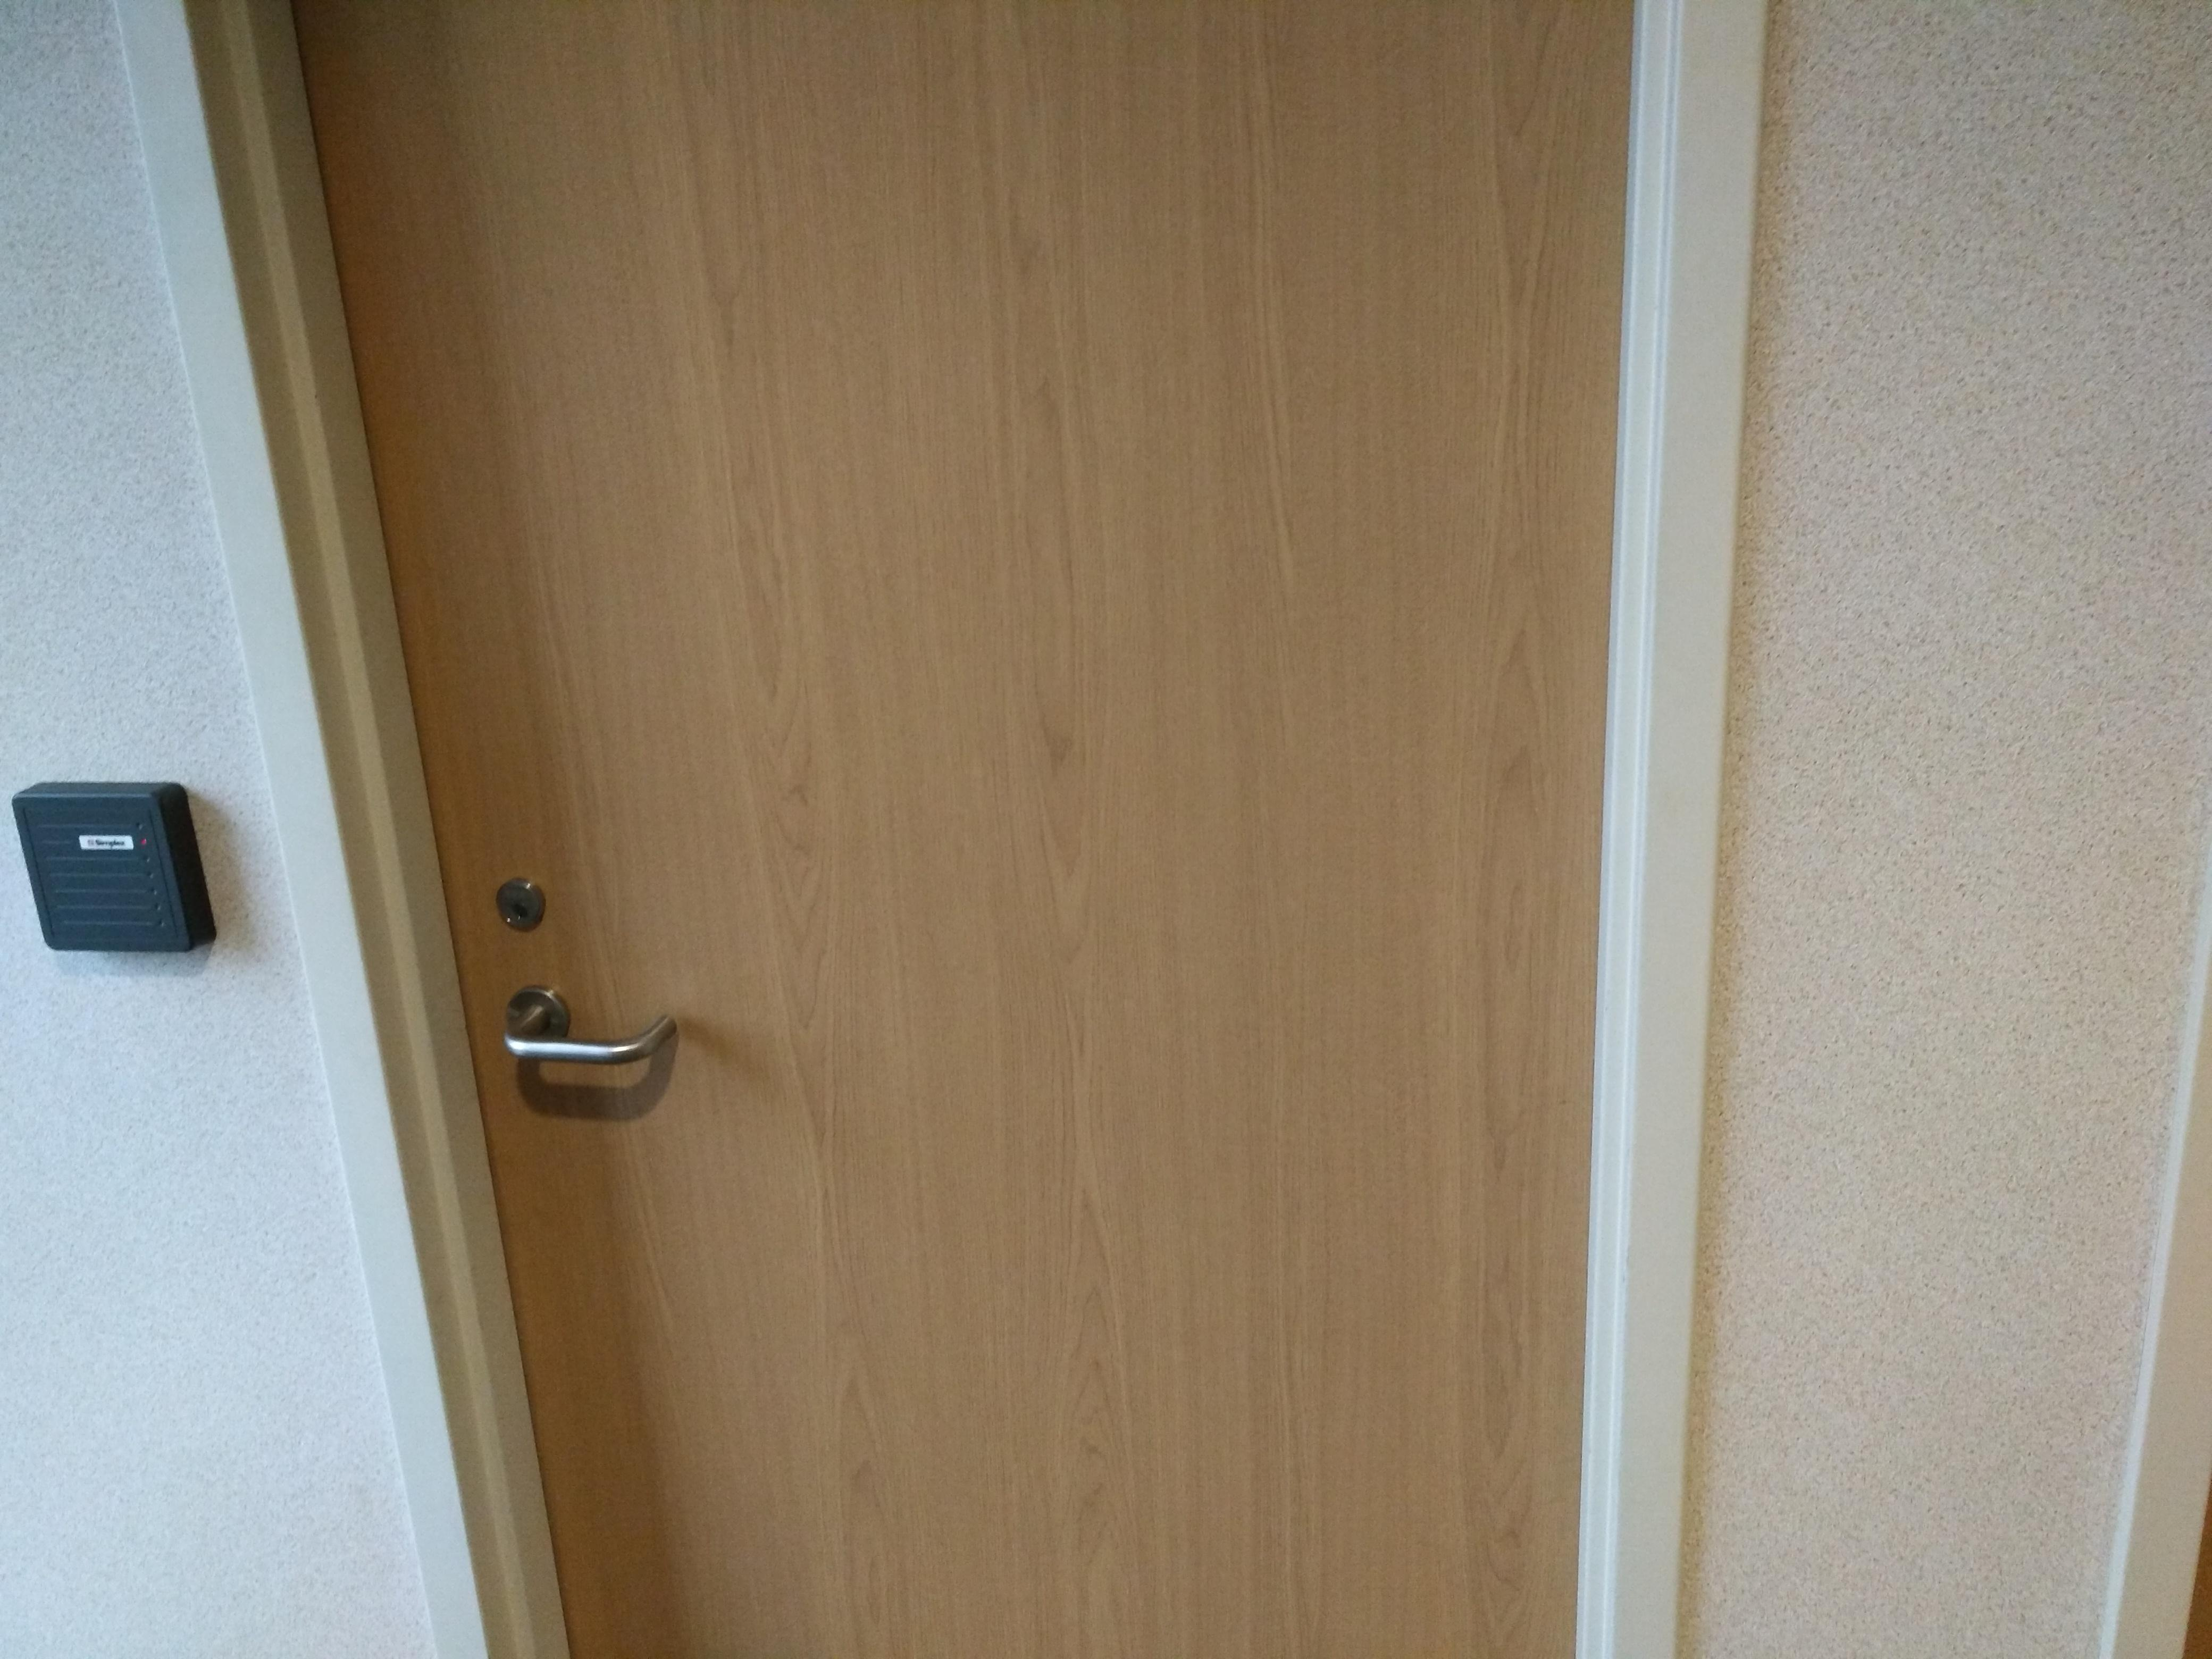door: (261, 2, 1635, 1635)
